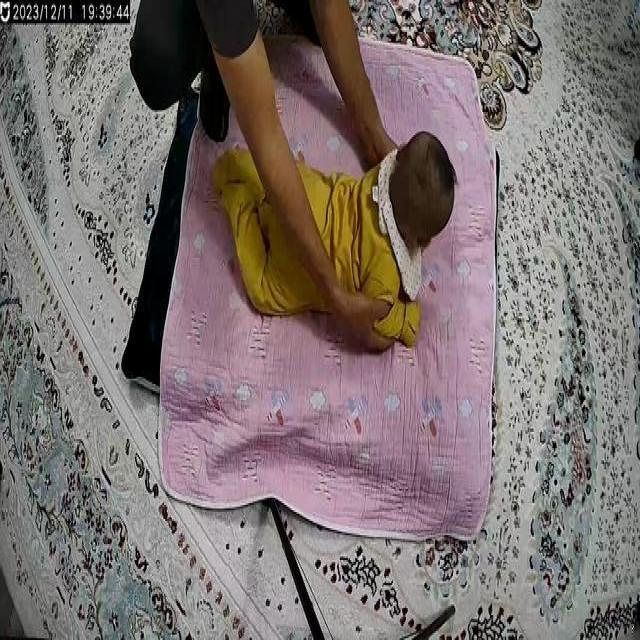baby: (209, 128, 456, 362)
